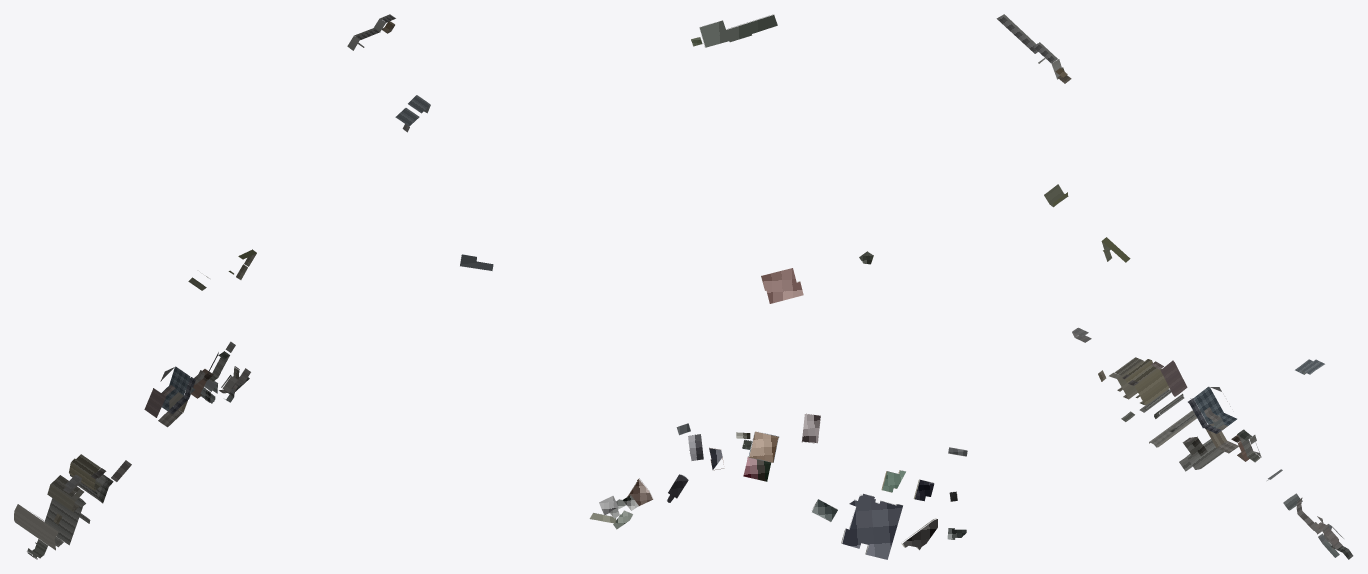
The model's file is tile_LOD3_r4_c6.glb.
The picture shows the model from 3 angles, left to right: view 1: azimuth 30°, elevation 25°; view 2: azimuth 150°, elevation 25°; view 3: azimuth 270°, elevation 25°; orthographic projection. The views are drawn at different scales.
Bounding box in the file's own units: 321 × 322 × 185.
107 materials, 107 textured.
